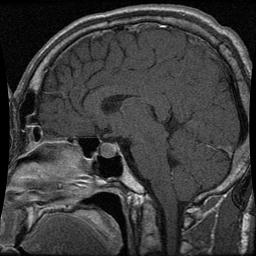Pituirity_tumour: (98, 141, 117, 157)
